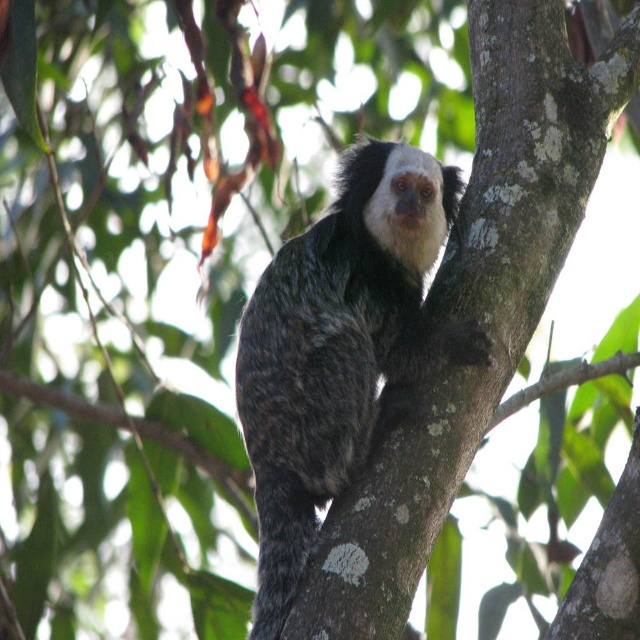Monkey: (228, 132, 493, 640)
